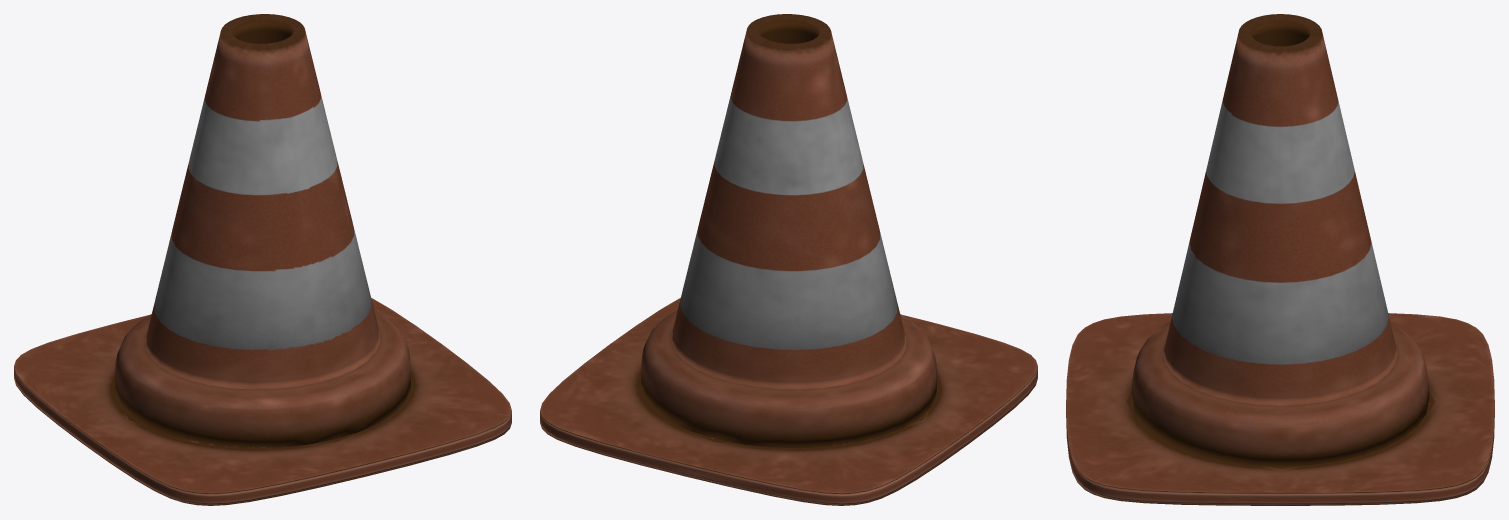
The model's file is plyon.fbx.
3 renders of one model, left to right at view 1: azimuth 30°, elevation 25°; view 2: azimuth 150°, elevation 25°; view 3: azimuth 270°, elevation 25°, orthographic. The views are drawn at different scales.
Visible parts, largest first — view 1: Pylon; view 2: Pylon; view 3: Pylon.
Boxes of the visible parts, x1,y1,x2,y2 form: Pylon: (14, 14, 511, 505); Pylon: (540, 14, 1037, 505); Pylon: (1066, 14, 1494, 505).
Bounding box in the file's own units: 163 × 160 × 163.
1 material, 1 textured.
